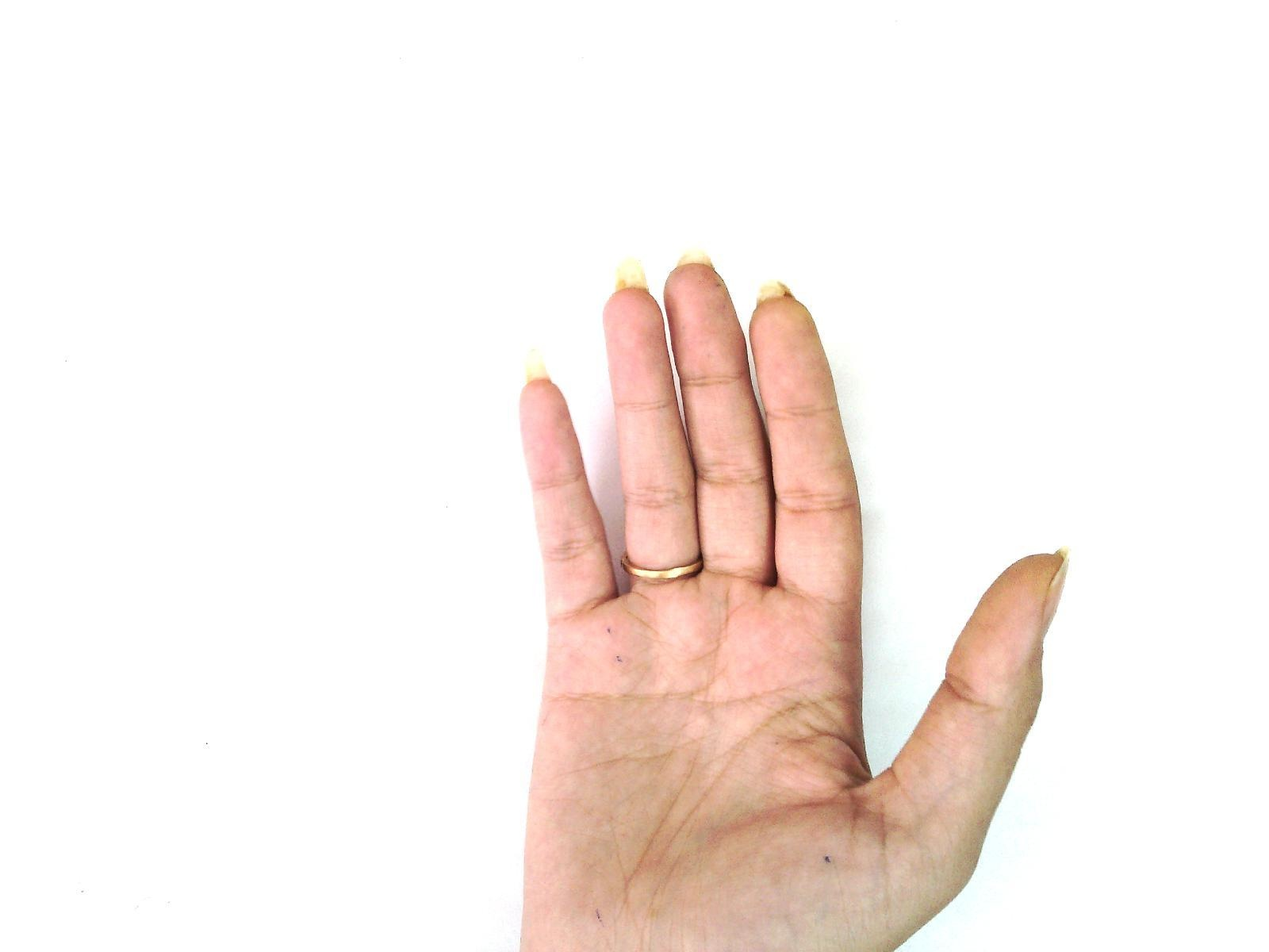open_palm: (512, 251, 1072, 951)
